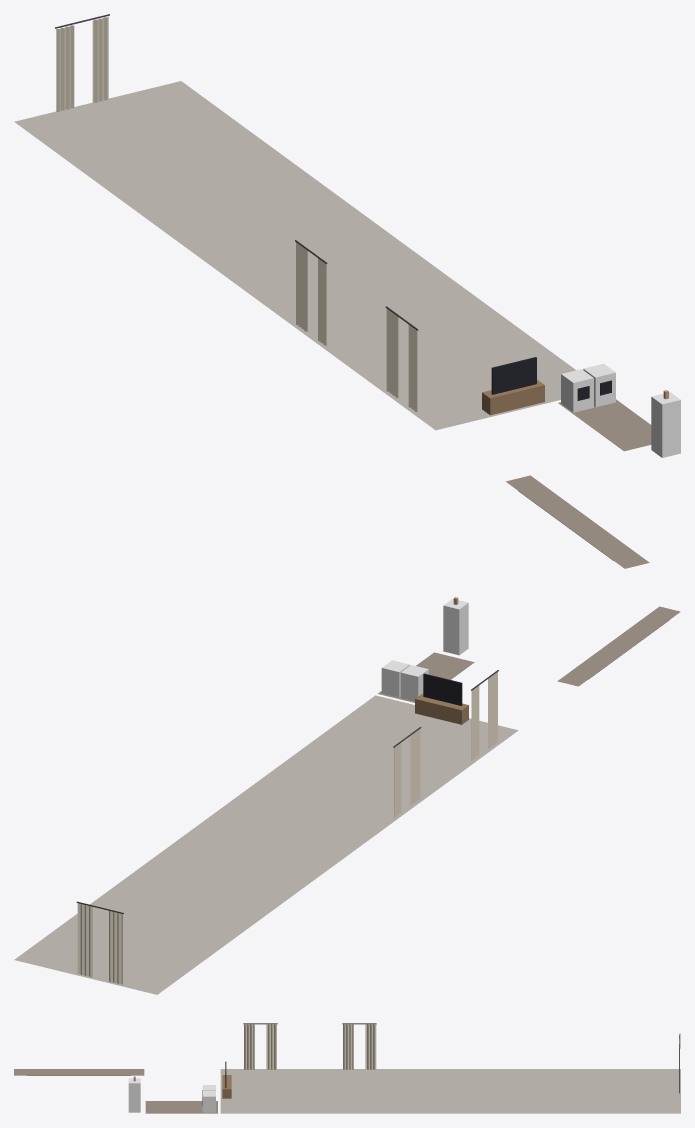
The model's file is fine-s0.glb.
3 views of the same model, one above another, from view 1: azimuth 30°, elevation 25°; view 2: azimuth 150°, elevation 25°; view 3: azimuth 270°, elevation 25° (orthographic). The views are drawn at different scales.
Parts seen in each view (by area): view 1: soft-s0, tv-console.000, water-heater.000, washer.000, washer.001; view 2: soft-s0, tv-console.000, water-heater.000, washer.000, washer.001; view 3: soft-s0, water-heater.000, washer.001, tv-console.000.
Boxes of the visible parts, bbox=[...] form: soft-s0: bbox=[14, 14, 651, 568]; tv-console.000: bbox=[482, 357, 544, 415]; water-heater.000: bbox=[651, 390, 680, 457]; washer.000: bbox=[561, 369, 593, 412]; washer.001: bbox=[583, 363, 615, 407]; soft-s0: bbox=[14, 606, 680, 994]; tv-console.000: bbox=[415, 673, 468, 724]; water-heater.000: bbox=[443, 597, 468, 655]; washer.000: bbox=[400, 665, 428, 701]; washer.001: bbox=[381, 660, 409, 697]; soft-s0: bbox=[14, 1023, 680, 1113]; water-heater.000: bbox=[128, 1076, 140, 1112]; washer.001: bbox=[202, 1091, 215, 1112]; tv-console.000: bbox=[222, 1061, 231, 1098].
Bounding box in the file's own units: 4.9 × 2.4 × 31.
